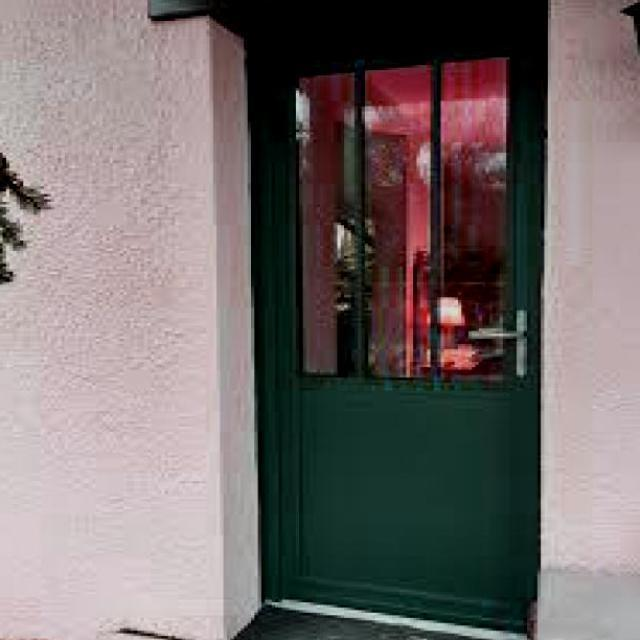door: (255, 48, 544, 631)
